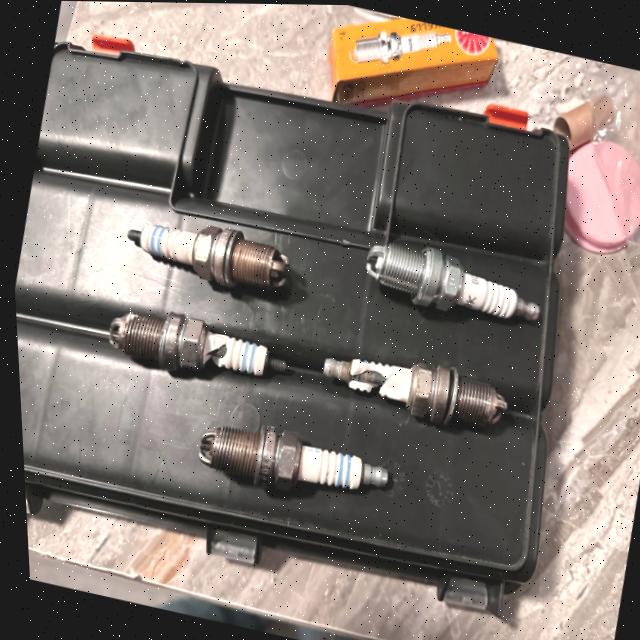damaged_spark-plug: (304, 333, 513, 433), (103, 296, 287, 394)
spark-plug: (356, 231, 544, 337), (191, 413, 394, 508), (116, 204, 294, 299)
